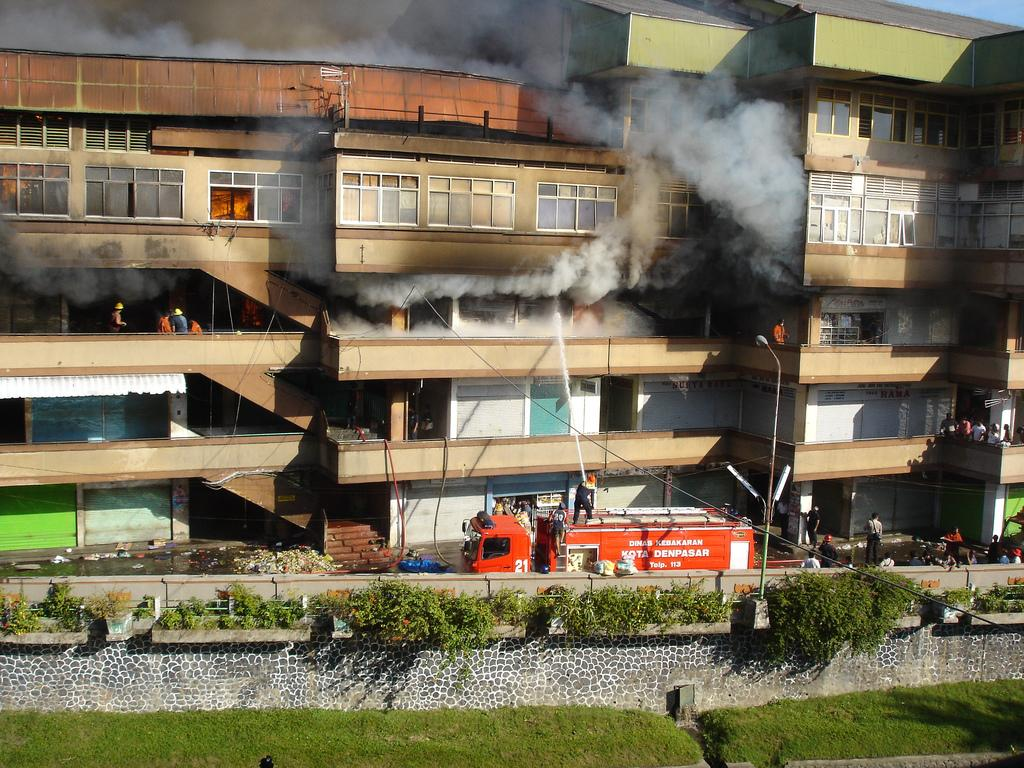fire: (210, 188, 252, 222), (154, 306, 194, 334)
smoke: (56, 2, 586, 68), (668, 110, 800, 238), (466, 276, 620, 340)
